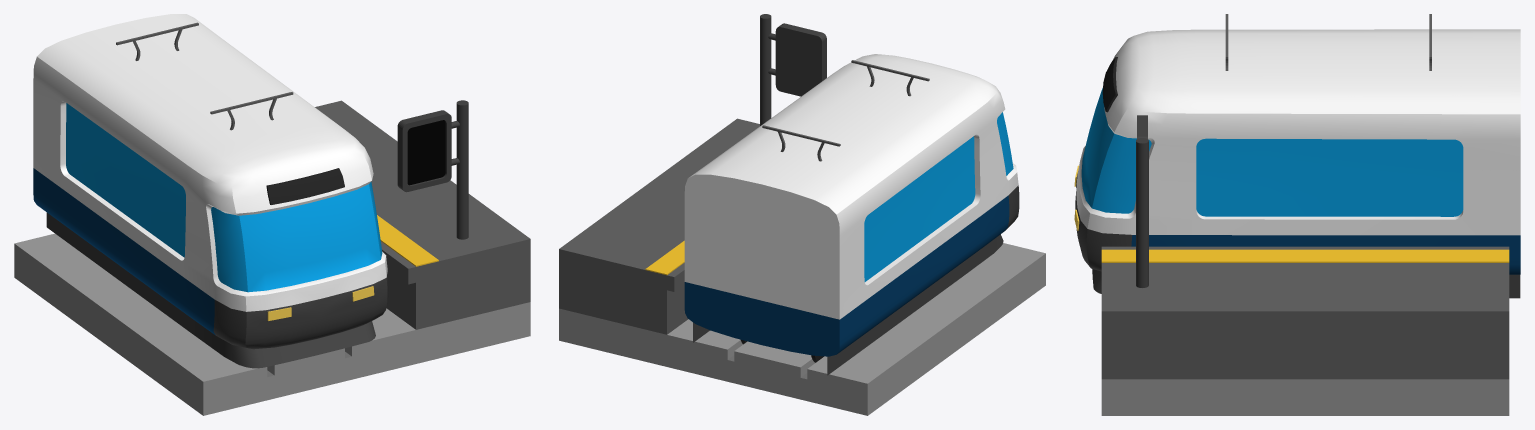
File: station.fbx
3 views of the same model, side by side, from view 1: azimuth 30°, elevation 25°; view 2: azimuth 150°, elevation 25°; view 3: azimuth 270°, elevation 25° (orthographic). The views are drawn at different scales.
Visible parts, largest first — view 1: Cube.581; view 2: Cube.581; view 3: Cube.581.
Part boxes in pixels (left/top/right/bottom): Cube.581: left=14, top=14, right=530, bottom=415; Cube.581: left=559, top=14, right=1045, bottom=415; Cube.581: left=1074, top=14, right=1520, bottom=415.
Bounding box in the file's own units: 200 × 144 × 219.
Materials: 1 (1 with a texture image).
